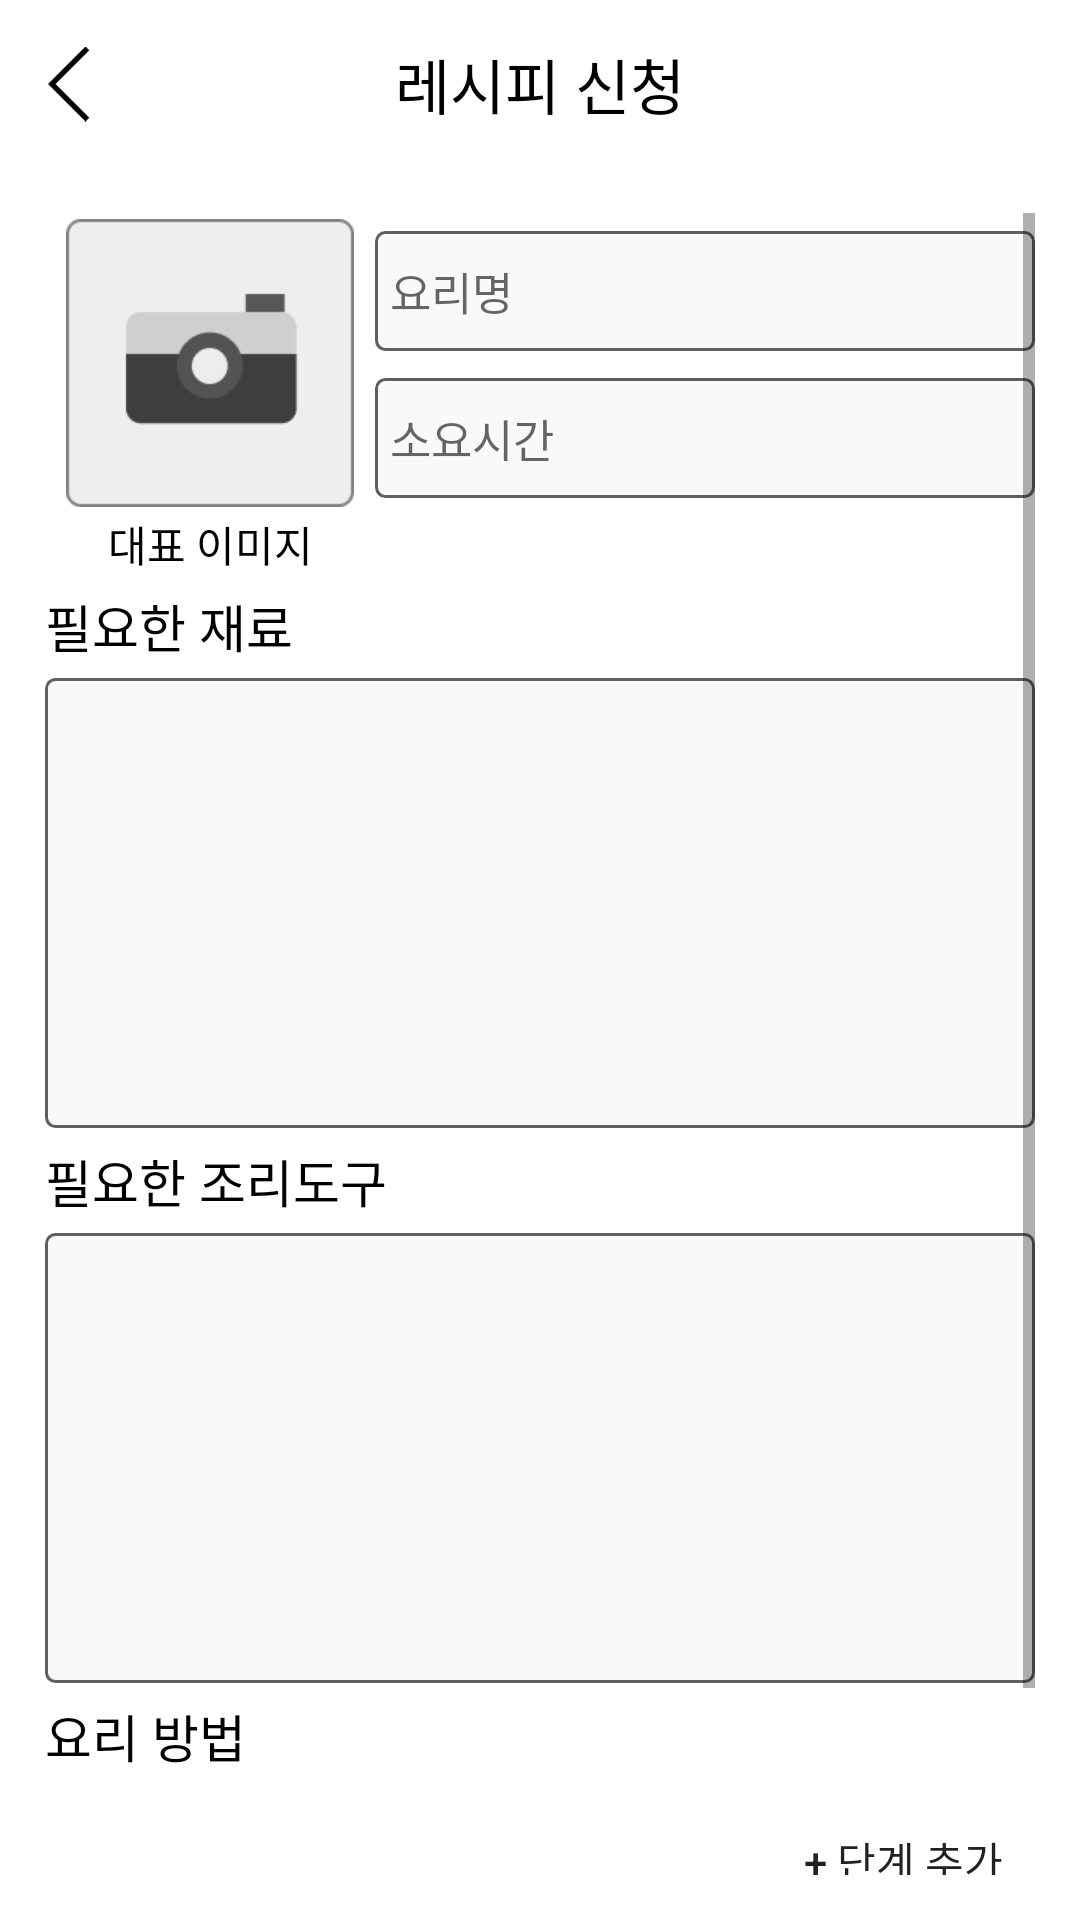

Screen size 1080px x 1920px. Icon name, then its center in pixels as [x,y]:
back: [68,84]
